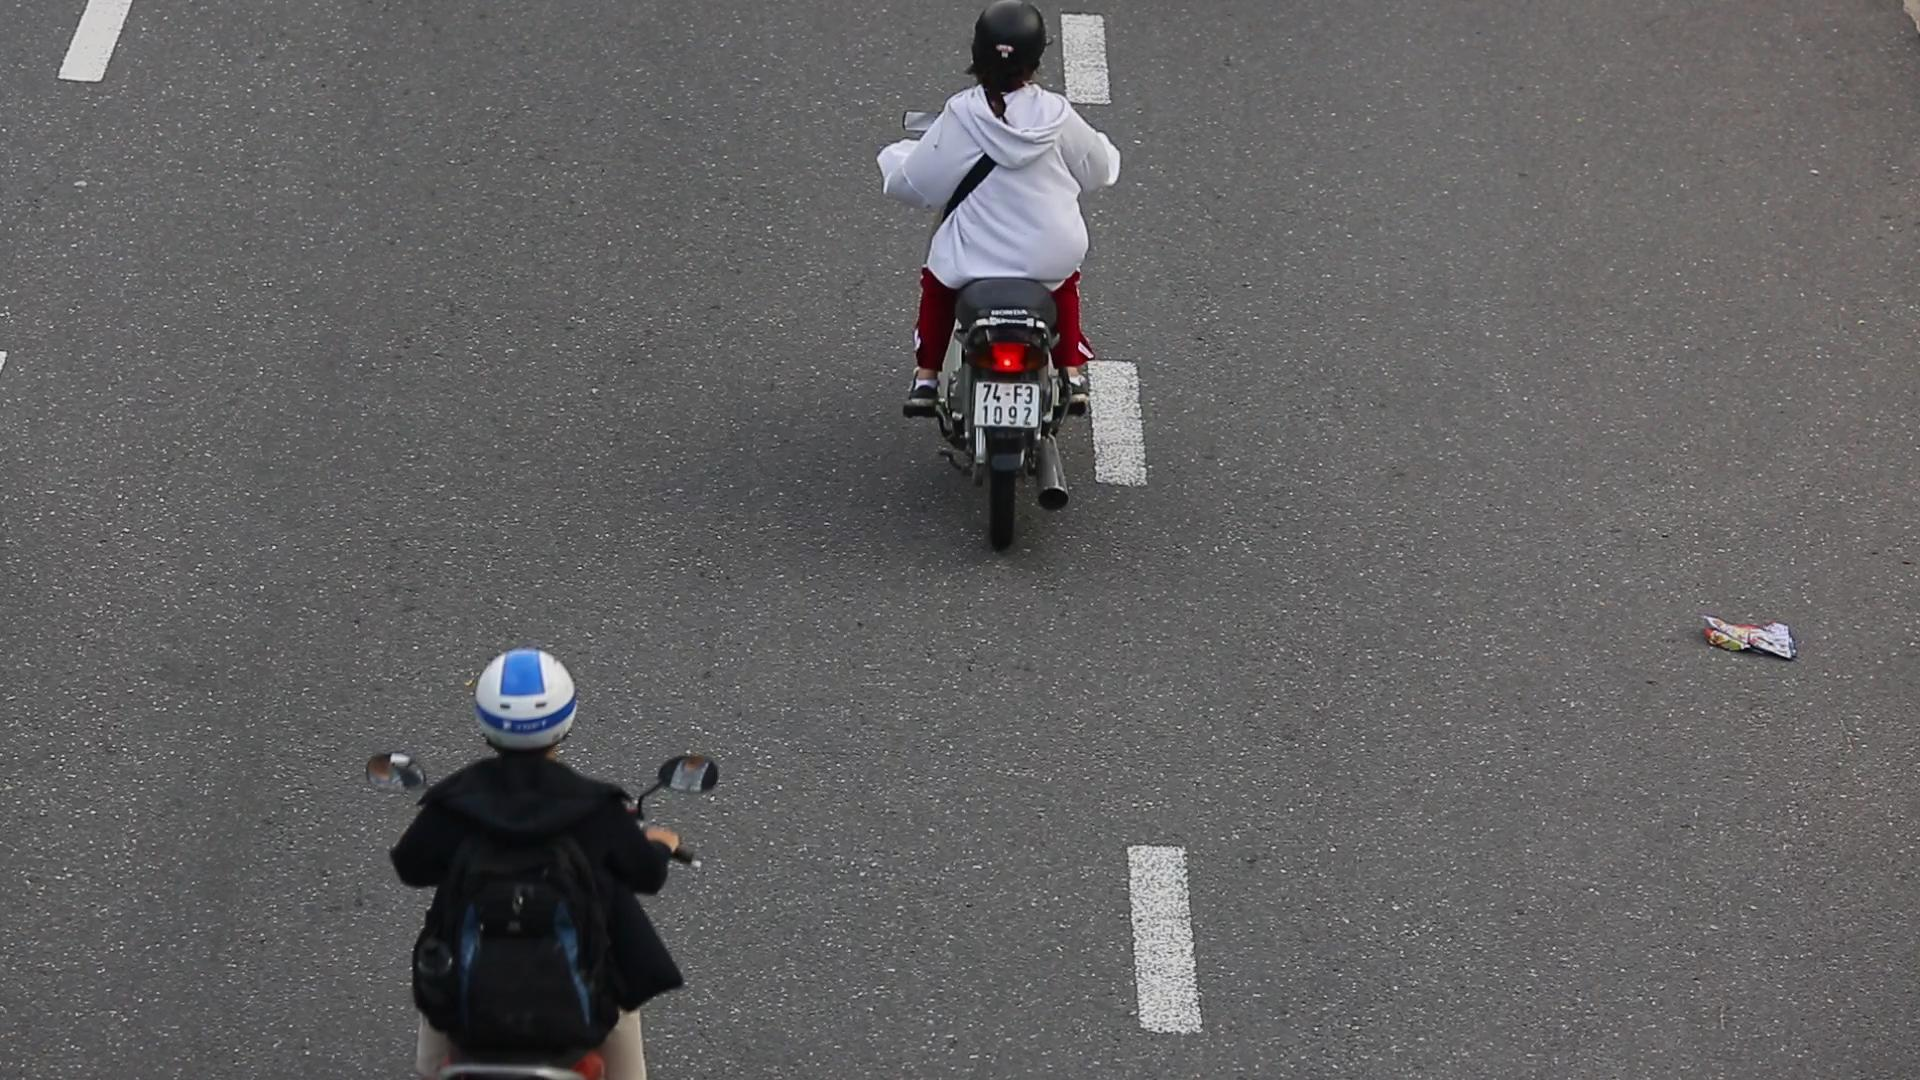motobike: (865, 0, 1122, 568)
